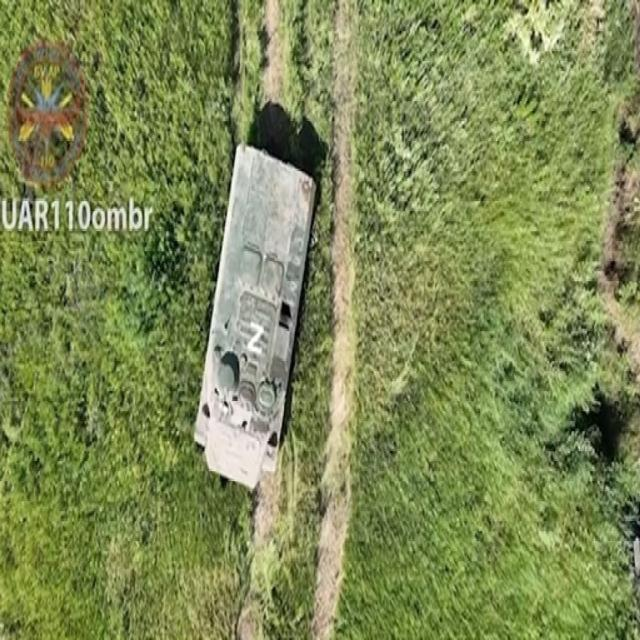APC-IFV: (182, 129, 318, 504)
